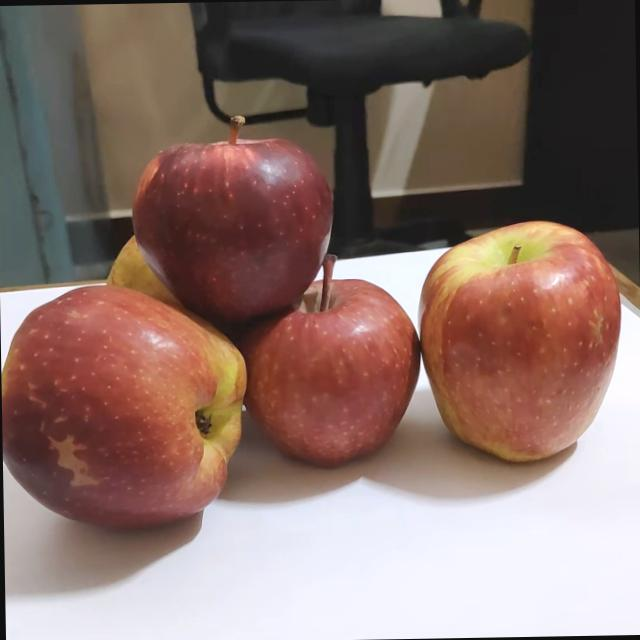apple: (1, 281, 264, 540), (419, 208, 626, 461), (130, 104, 344, 320), (243, 247, 432, 470), (99, 220, 209, 322)
